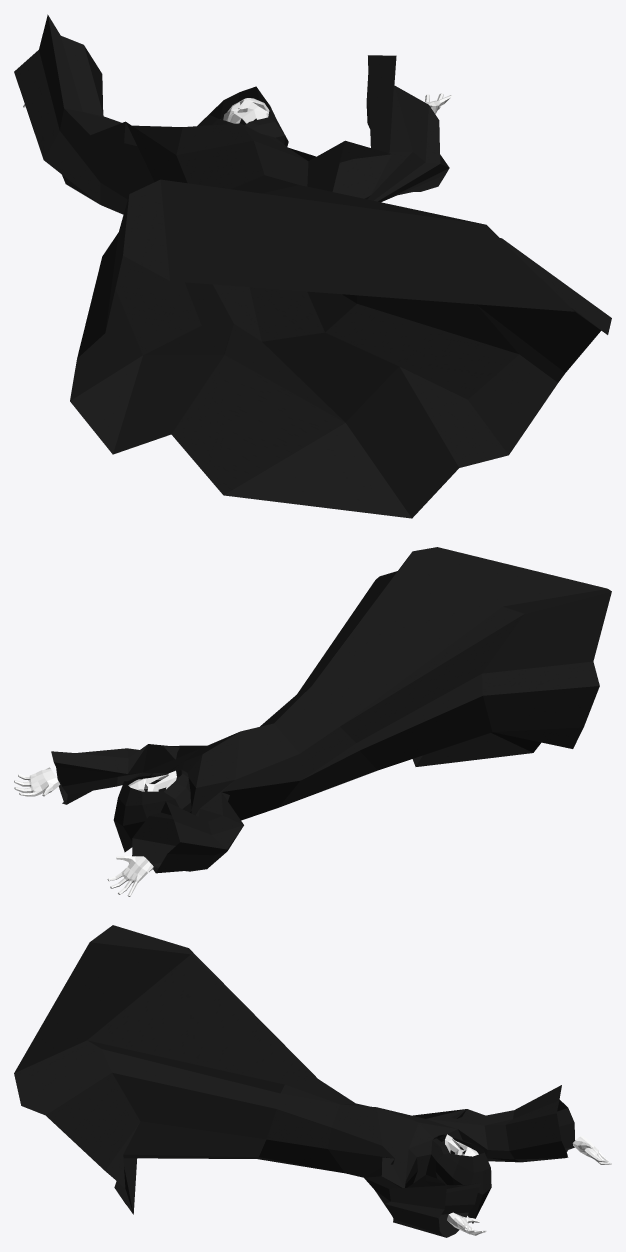
File: ReaperDead(105).obj
3 views of the same model, one above another, from view 1: azimuth 30°, elevation 25°; view 2: azimuth 150°, elevation 25°; view 3: azimuth 270°, elevation 25° (orthographic). The views are drawn at different scales.
Parts seen in each view (by area): view 1: Plane003; view 2: Plane003; view 3: Plane003.
Part boxes in pixels (left/top/right/bottom): Plane003: left=14, top=14, right=611, bottom=518; Plane003: left=14, top=547, right=611, bottom=896; Plane003: left=14, top=925, right=611, bottom=1237.
Size of the model in its own units: 211 by 107 by 294.
